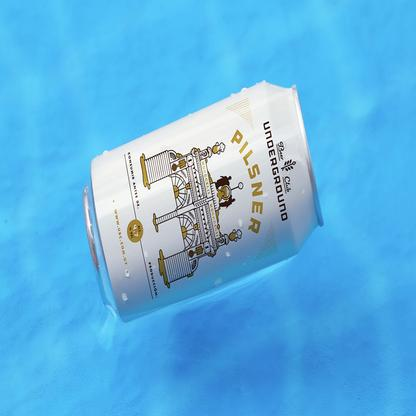can: (78, 76, 336, 327)
